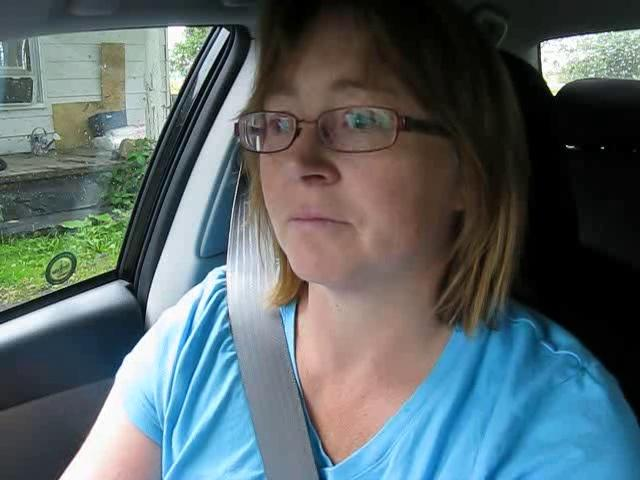no_yawn: (268, 197, 361, 249)
open_eyeL: (246, 105, 310, 153)
open_eyeR: (320, 98, 405, 154)
